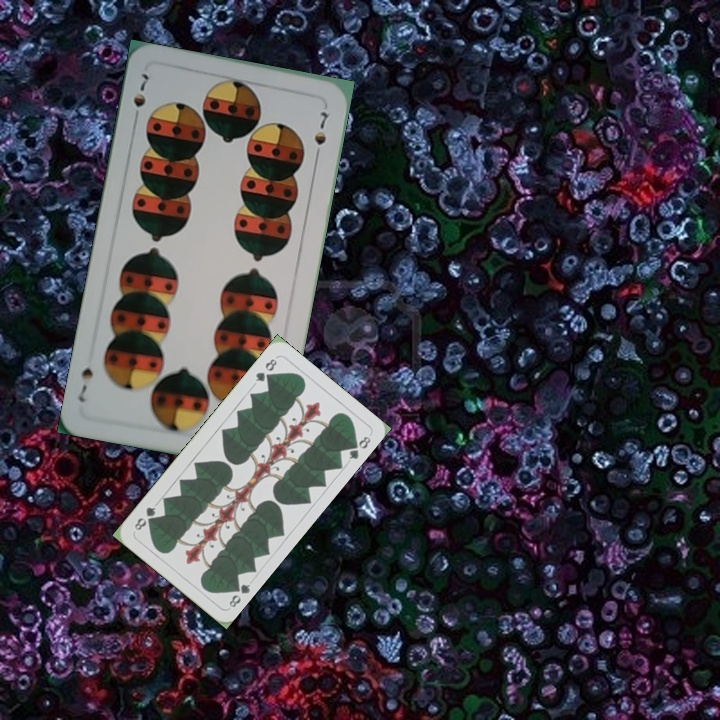G8: (225, 578, 253, 610), (251, 354, 280, 384)
S7: (129, 69, 152, 126)
